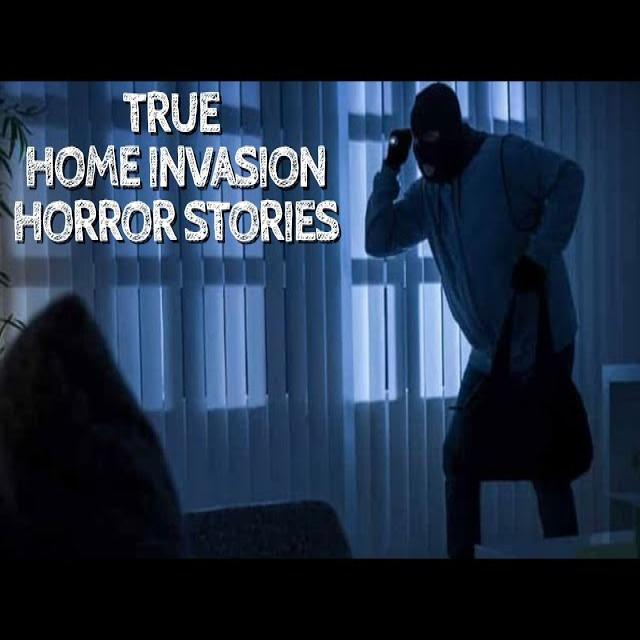intrusion detected: (366, 83, 596, 541)
